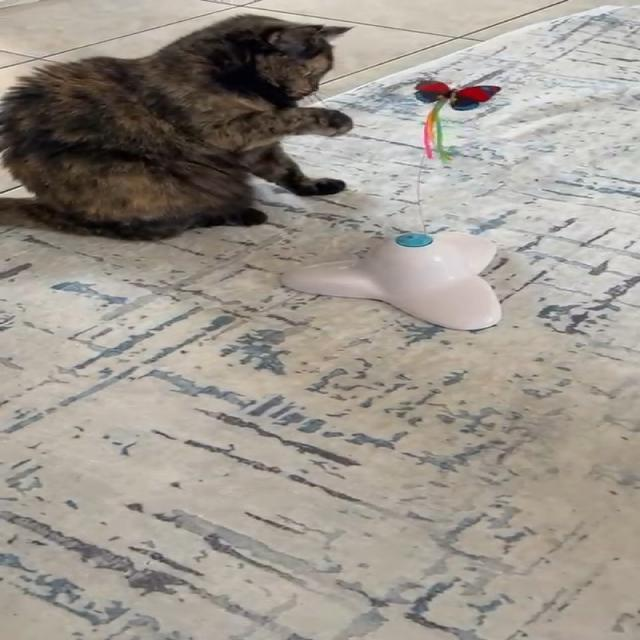authorized: (0, 13, 355, 241)
